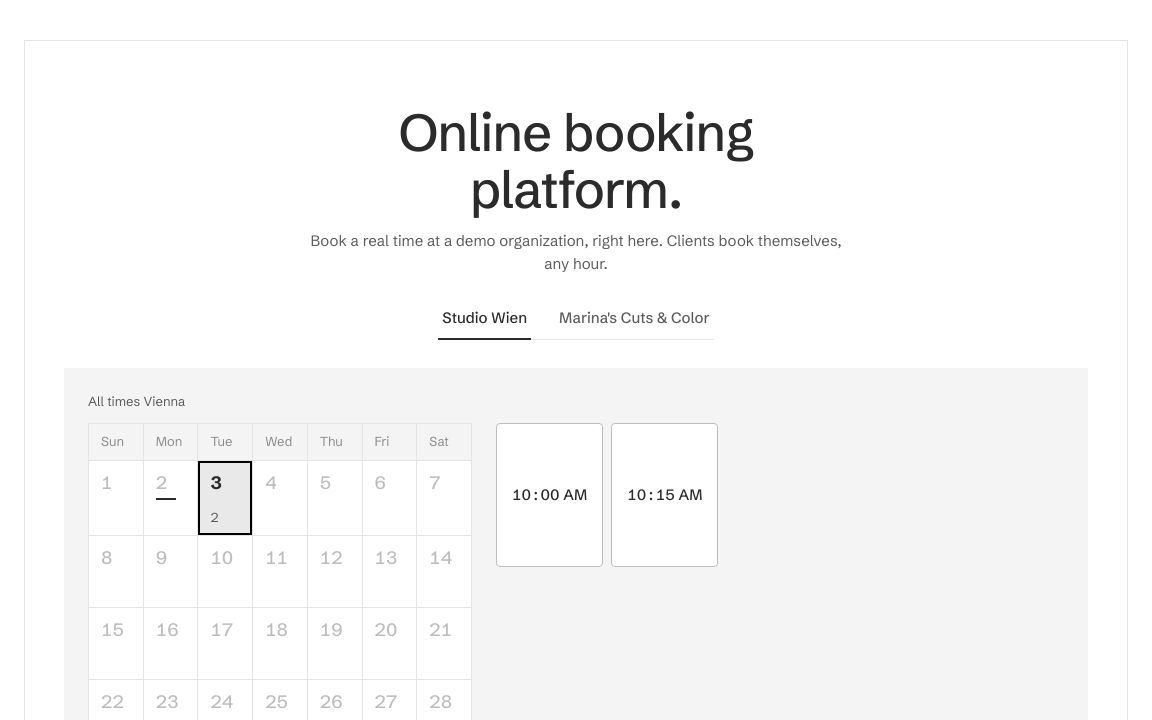
Landing live booking › says when someone else took the time, and refreshes the times
The width and height of the screenshot is (1152, 720).
Click the button "10:00 AM" at (550,495), box [496,423,603,567]
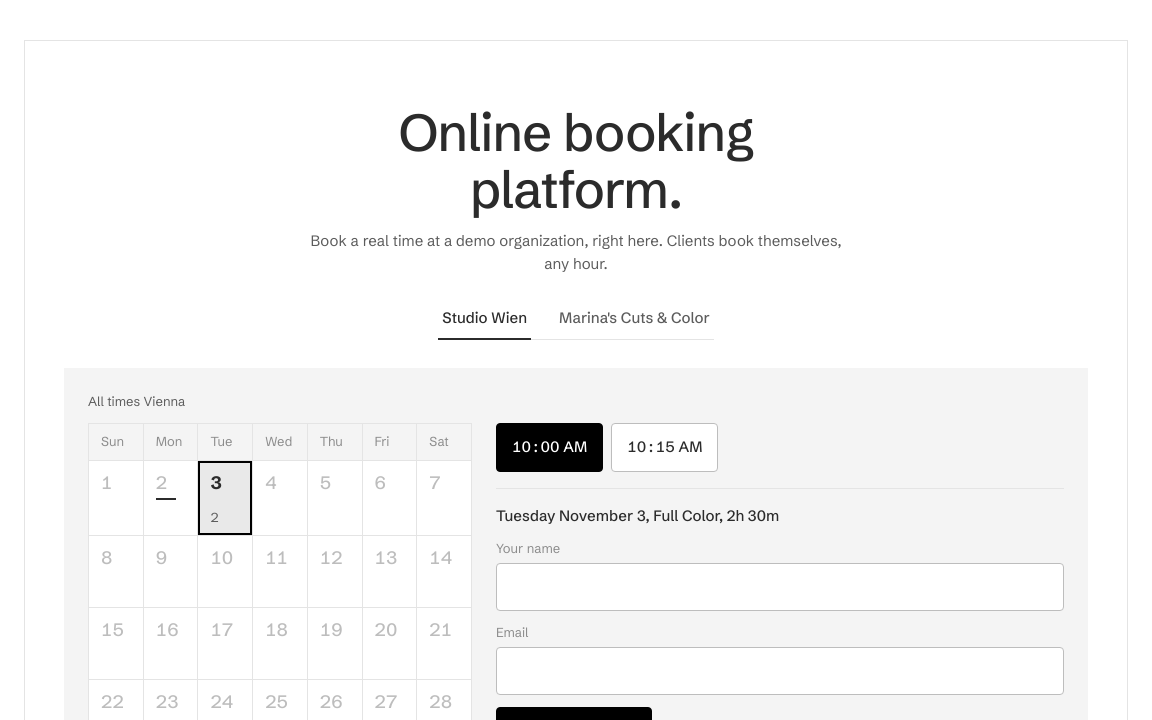
Type "Ada" into the field labelled "Your name" at (780,587), box [496,563,1064,611]
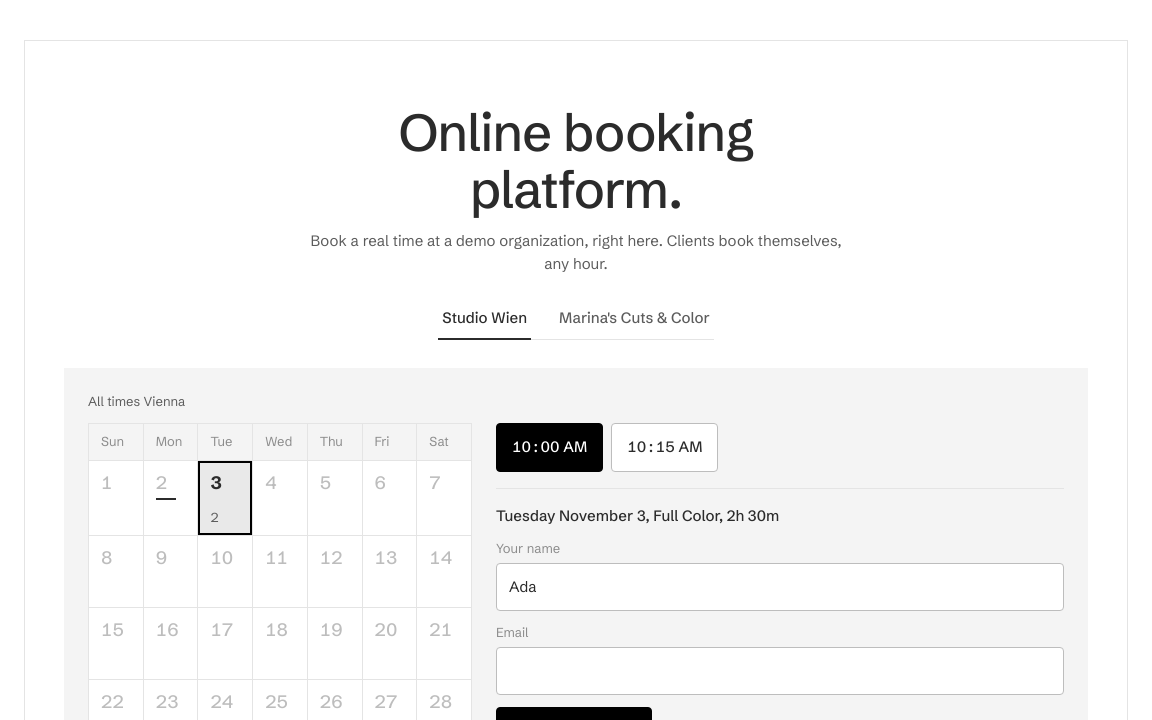
Type "ada@example.com" into the field labelled "Email" at (780,671), box [496,647,1064,695]
(page scrolled)
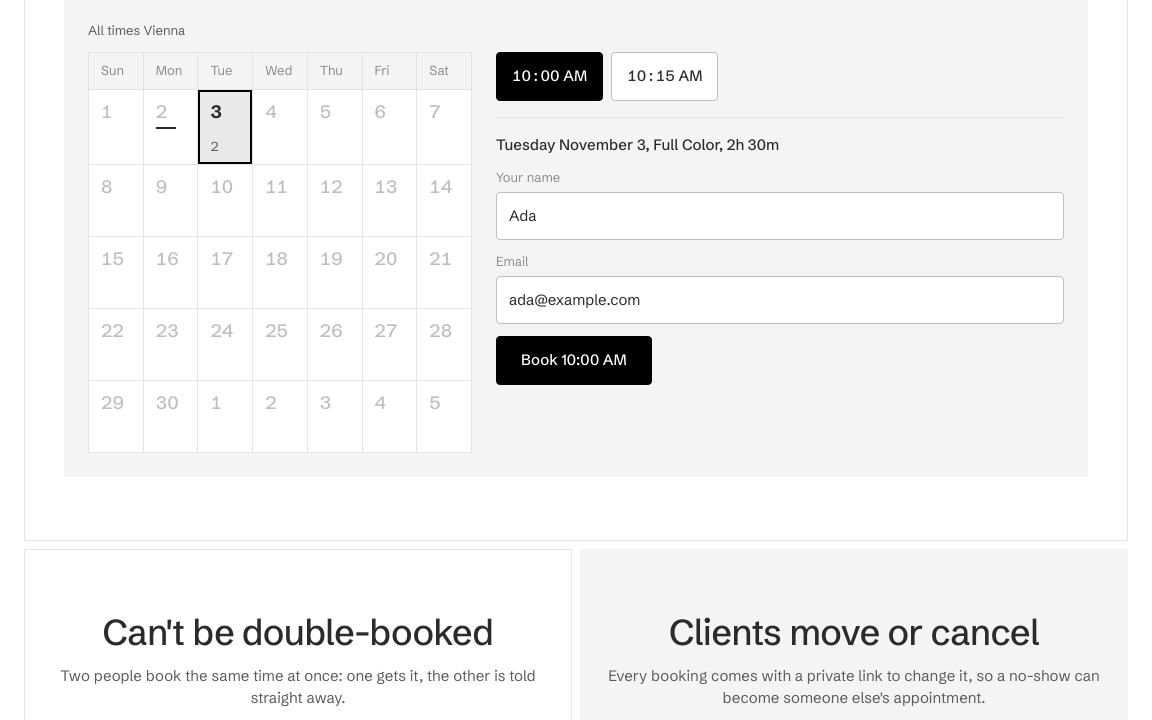
Submit the form from the button "Book 10:00 AM", box [496,336,652,385]
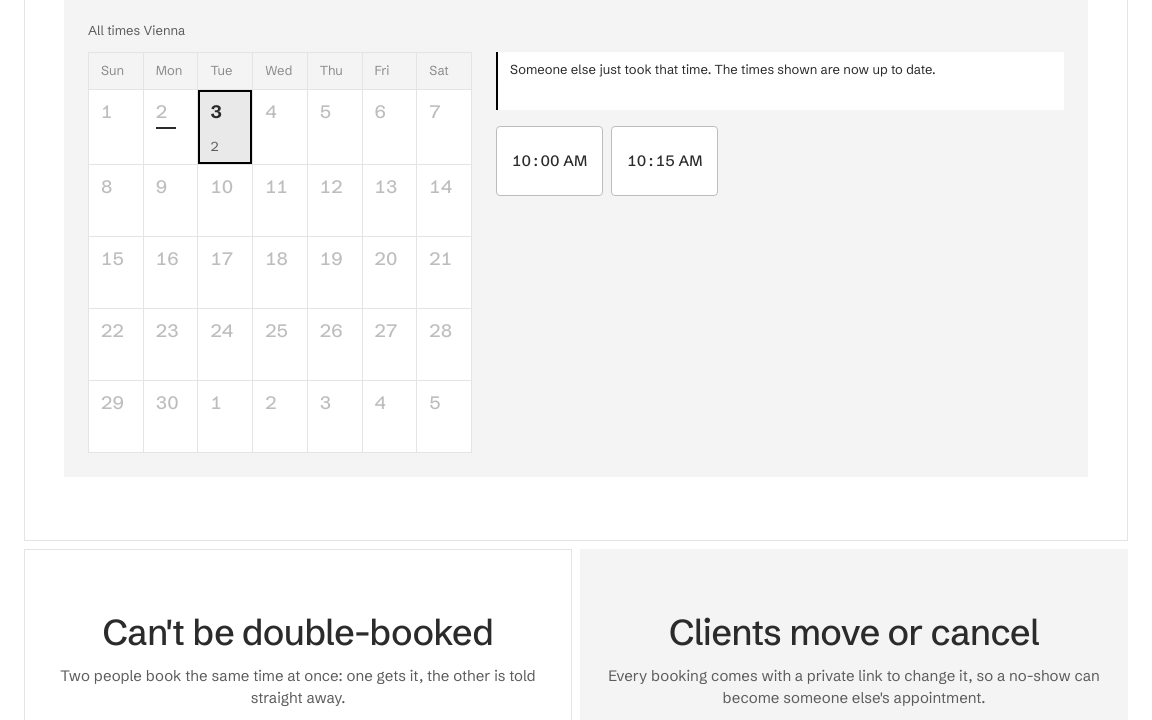
Expected: the message shows "just took that time", [510,61,936,77]
